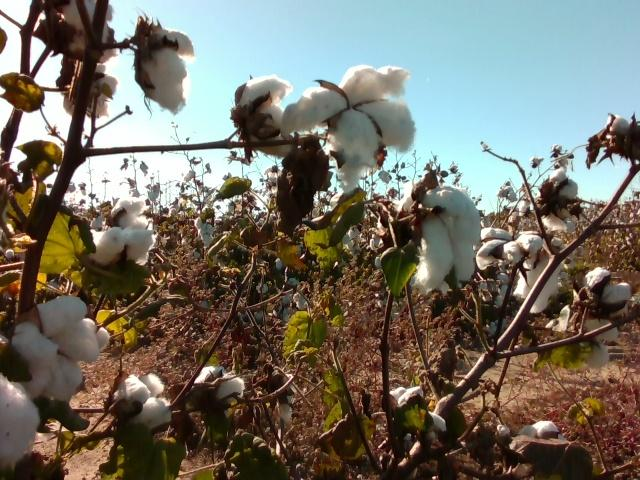cotton_ready: (281, 62, 418, 199), (7, 295, 112, 399), (410, 183, 479, 300), (86, 199, 159, 277), (236, 74, 300, 161), (144, 21, 197, 118), (106, 371, 181, 439), (547, 306, 624, 371), (0, 372, 45, 478), (572, 268, 633, 345), (61, 0, 120, 66), (511, 246, 565, 317), (63, 63, 121, 122), (472, 225, 546, 270), (387, 385, 449, 436), (539, 168, 581, 234), (194, 365, 248, 415), (518, 416, 571, 454), (600, 111, 640, 145)
